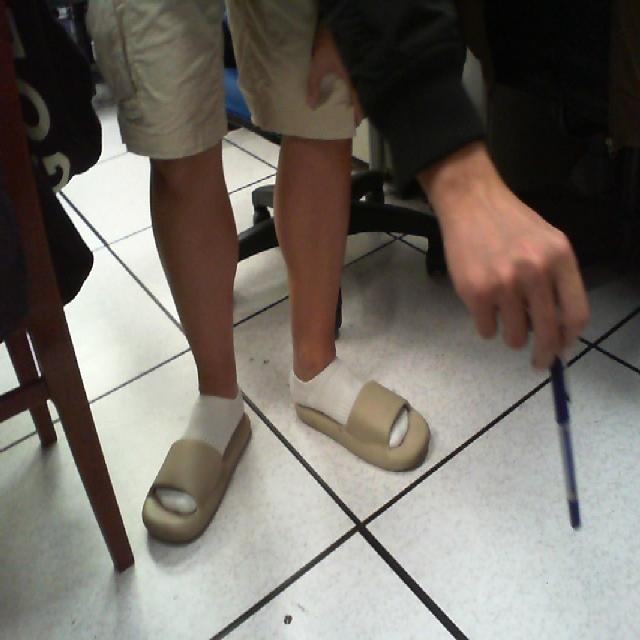Pen: (537, 336, 607, 564)
